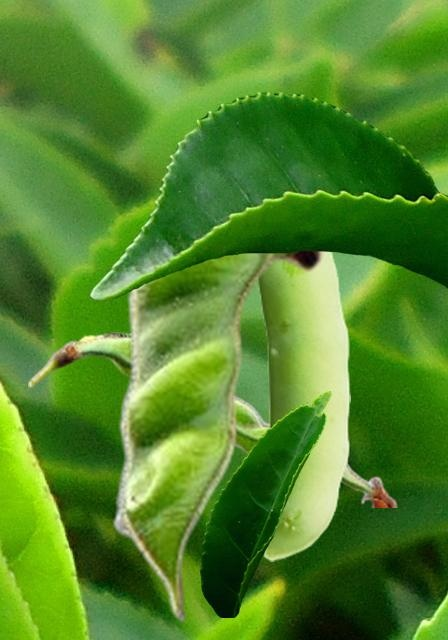pea: (111, 252, 329, 622), (28, 332, 397, 506), (255, 252, 349, 560)
